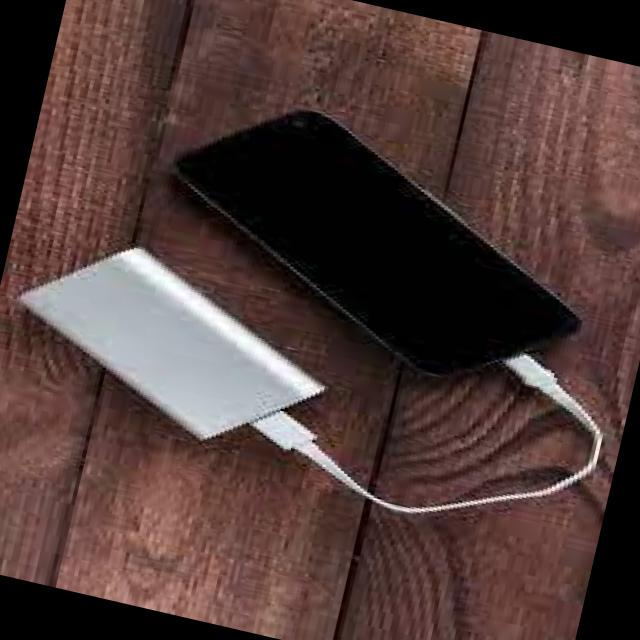power_bank: (0, 219, 346, 470)
